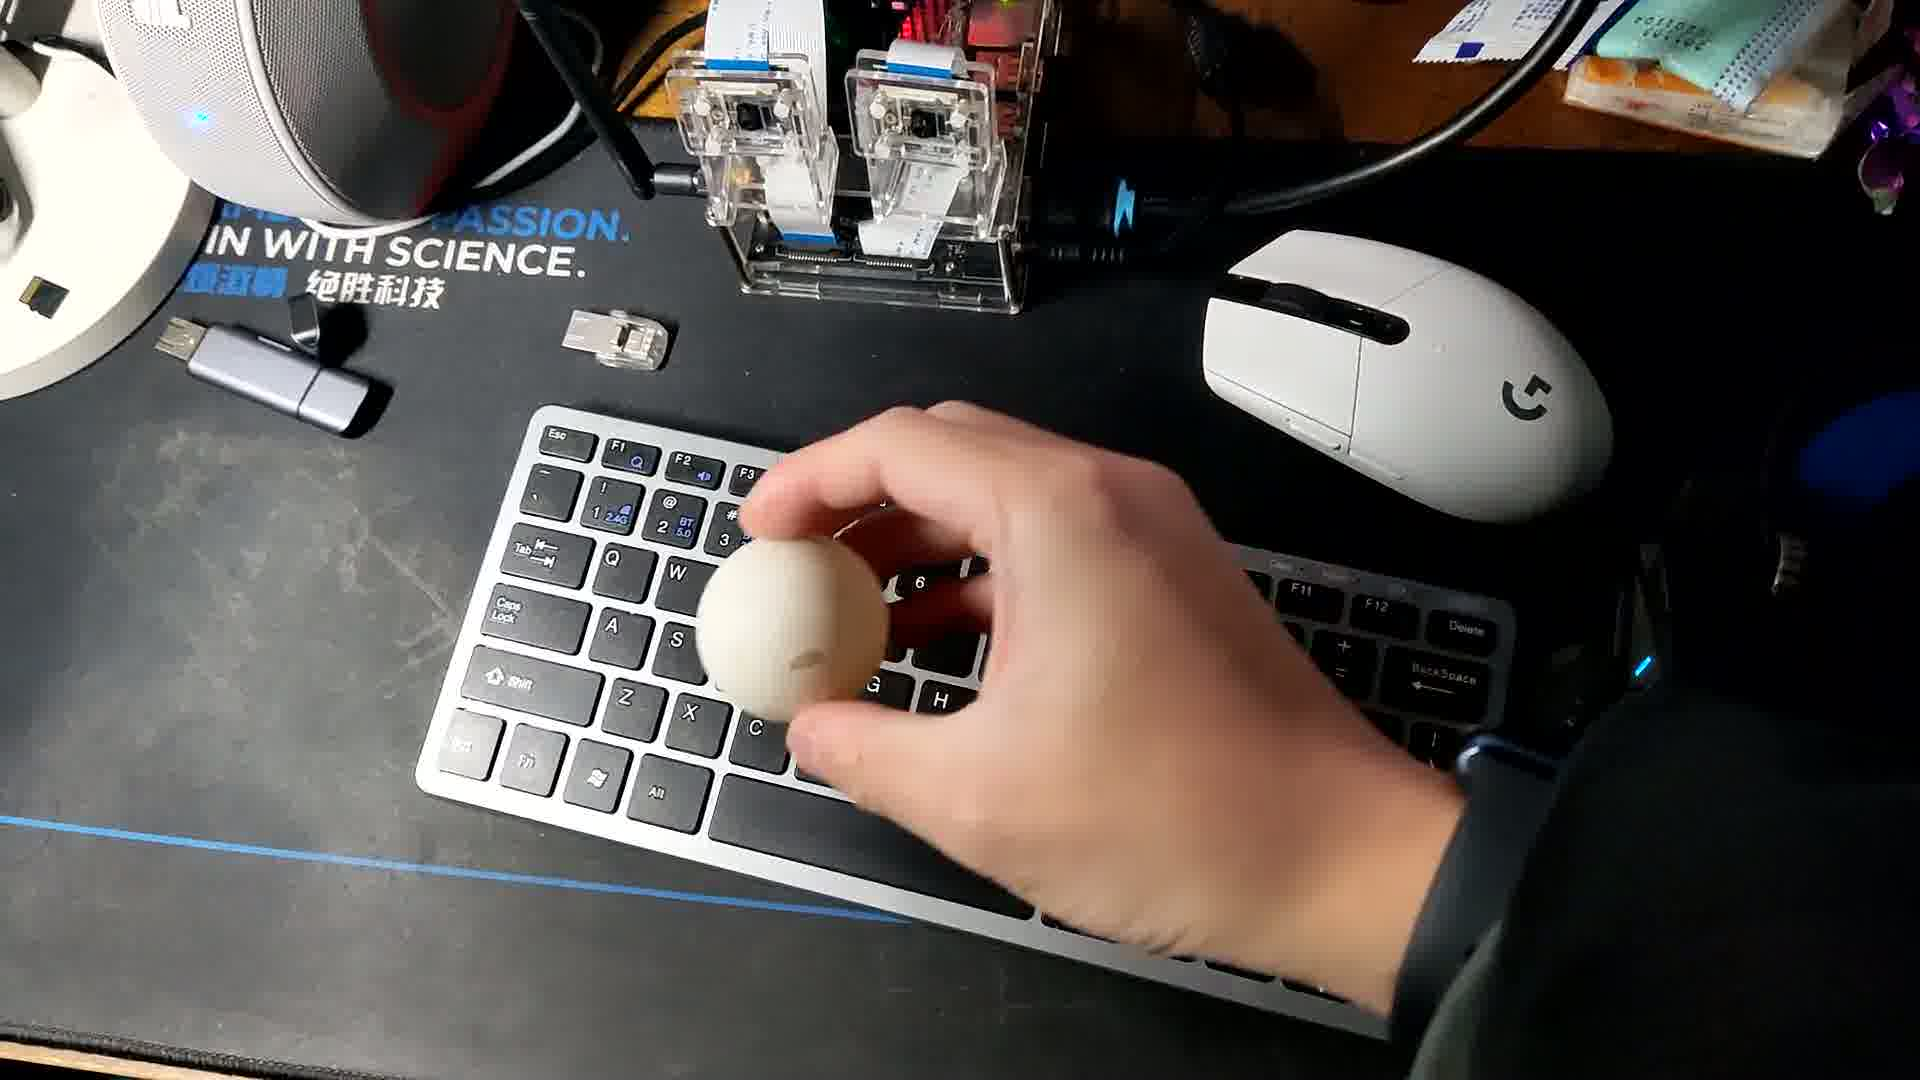Ball: (691, 535, 887, 727)
